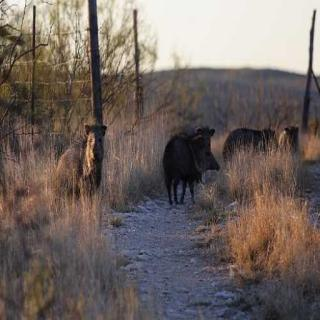Pig: (158, 114, 213, 223)
